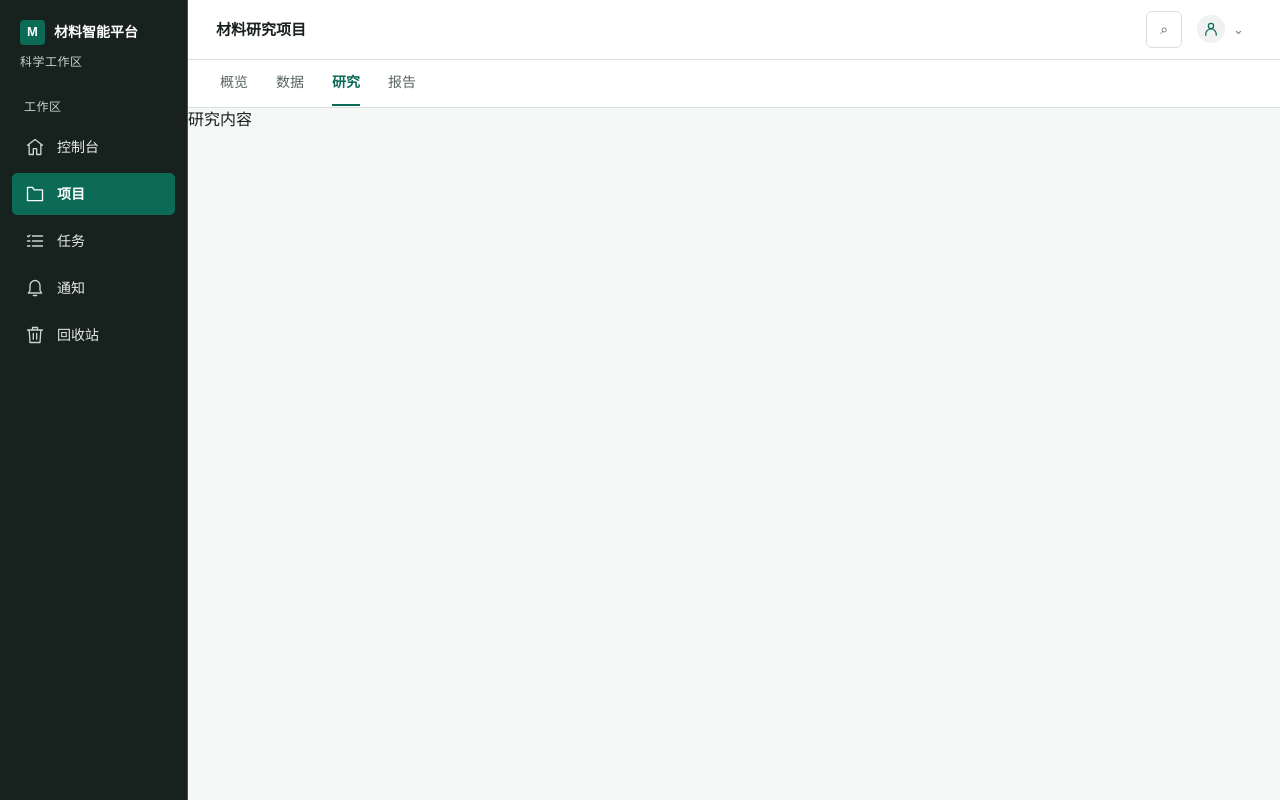
Test: keeps Open as navigation and offers an explicit removable research candidate
Click the button named "搜索科学工作".
click(1164, 29)  # box [1146, 11, 1182, 48]
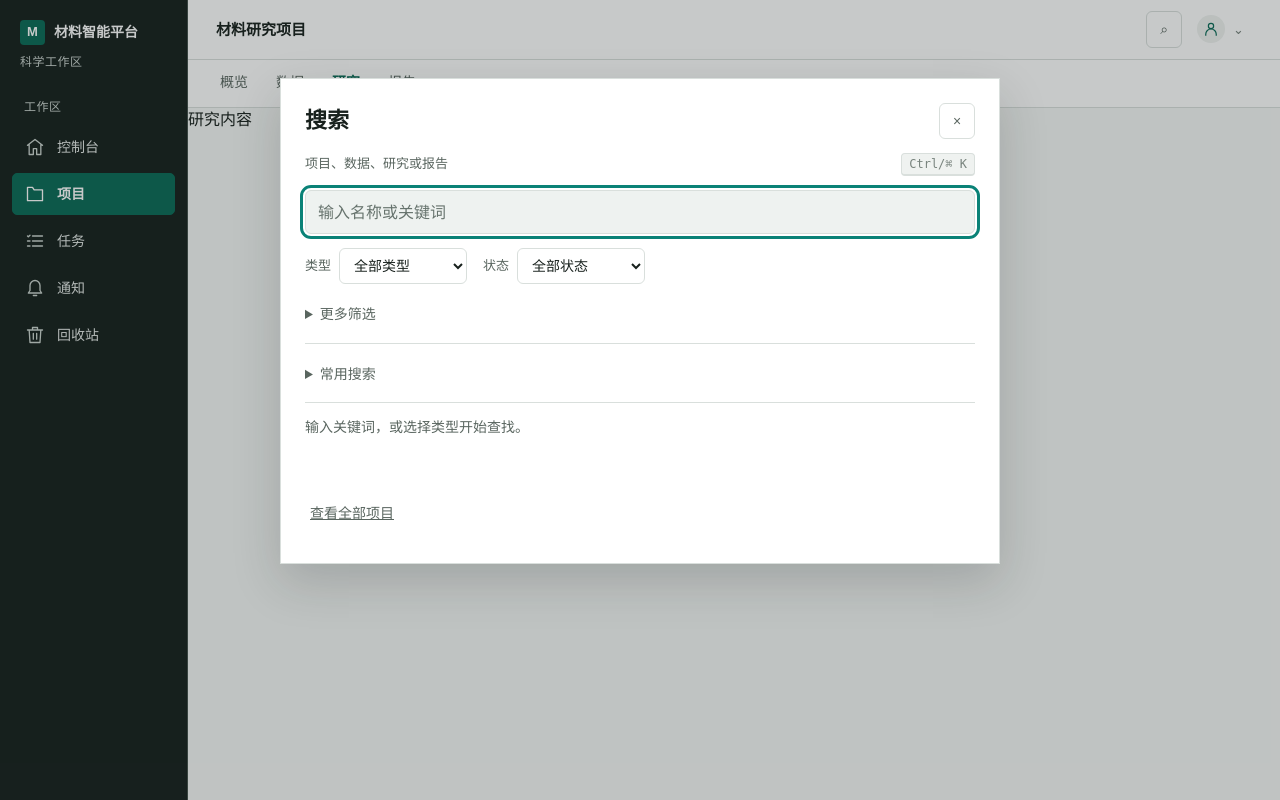
Type "silicon" into the field labelled "项目、数据、研究或报告".
click(640, 212); type("silicon")  # box [305, 190, 975, 234]
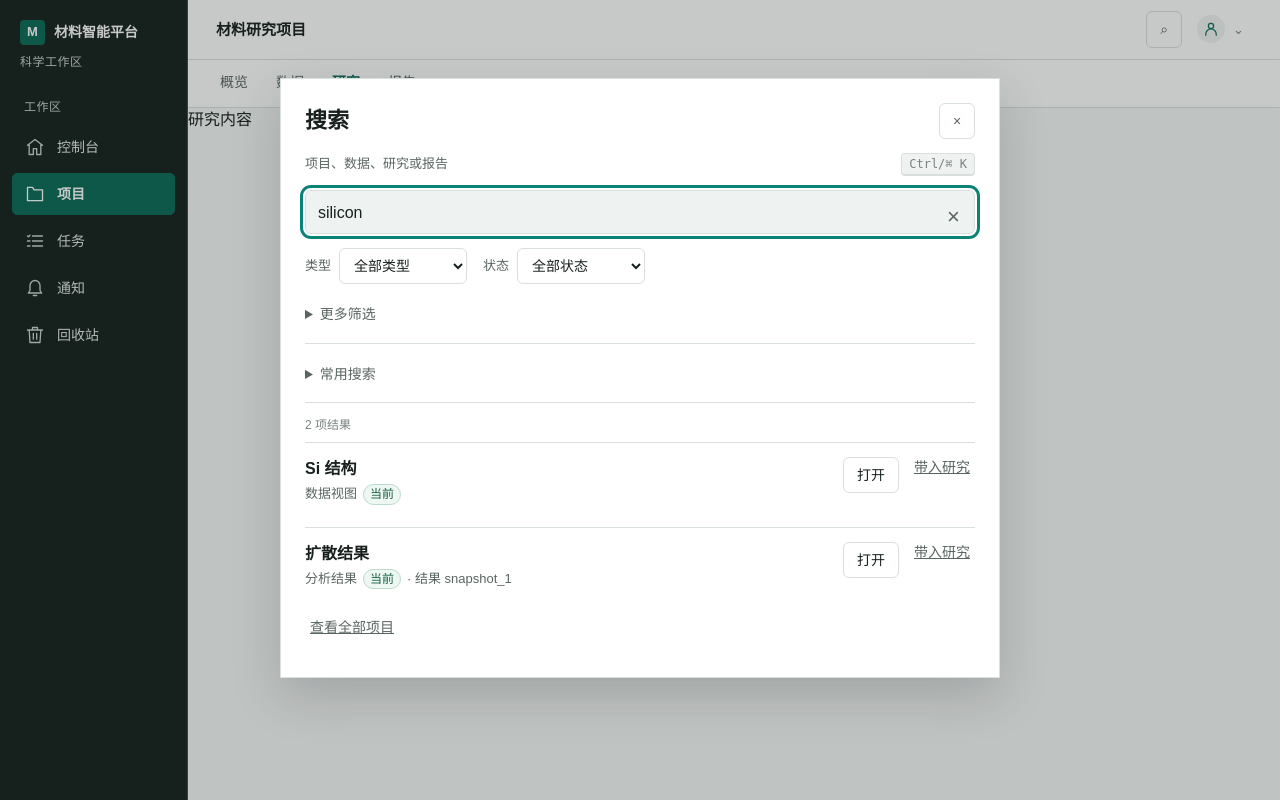
Now the number of links "带入研究" is 2, box [914, 459, 970, 475]; [914, 544, 970, 560]
Now the link "打开" in the row of "数据视图" is shown, box [843, 457, 899, 493]
